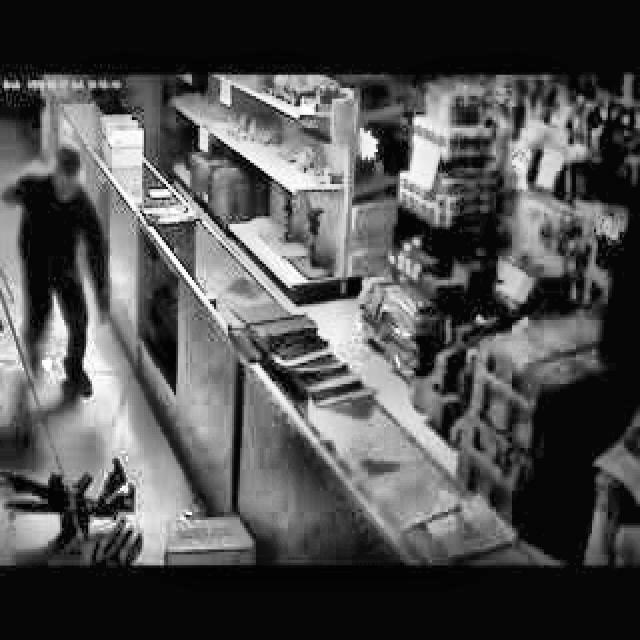Weapon: (0, 122, 129, 432)
